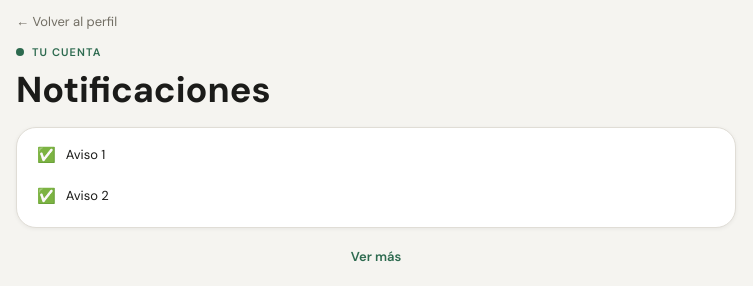
Test: /notificaciones › Ver más trae las anteriores
Check: the text "Aviso 2" is shown, box [66, 187, 109, 204]
Click the button "Ver más".
click(376, 256)  # box [351, 247, 401, 266]
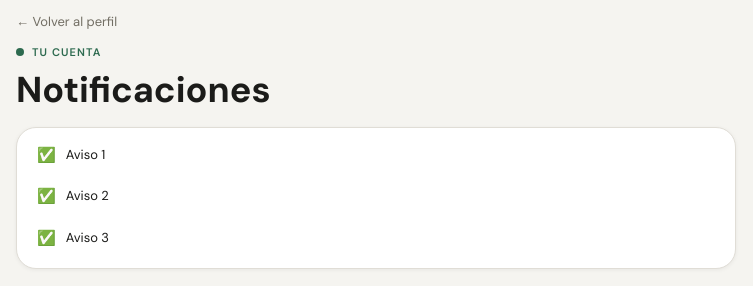
Check: the text "Aviso 3" is shown, box [66, 229, 109, 246]
Check: the button "Ver más" is gone
